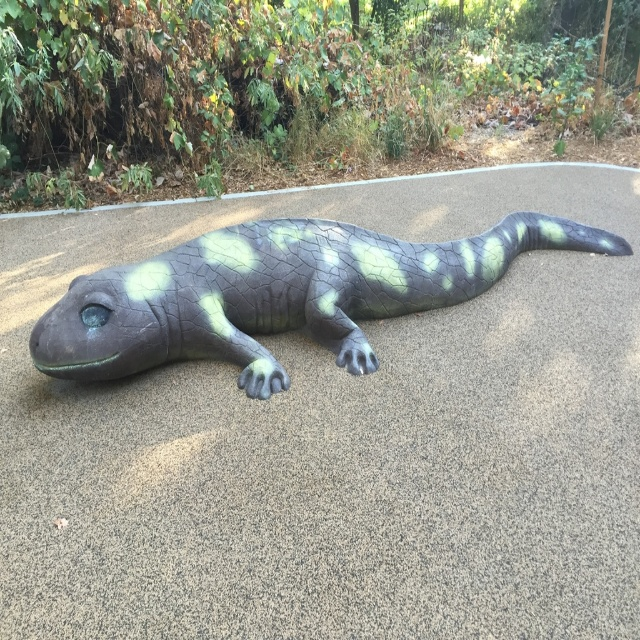Lizard: (168, 195, 640, 385)
